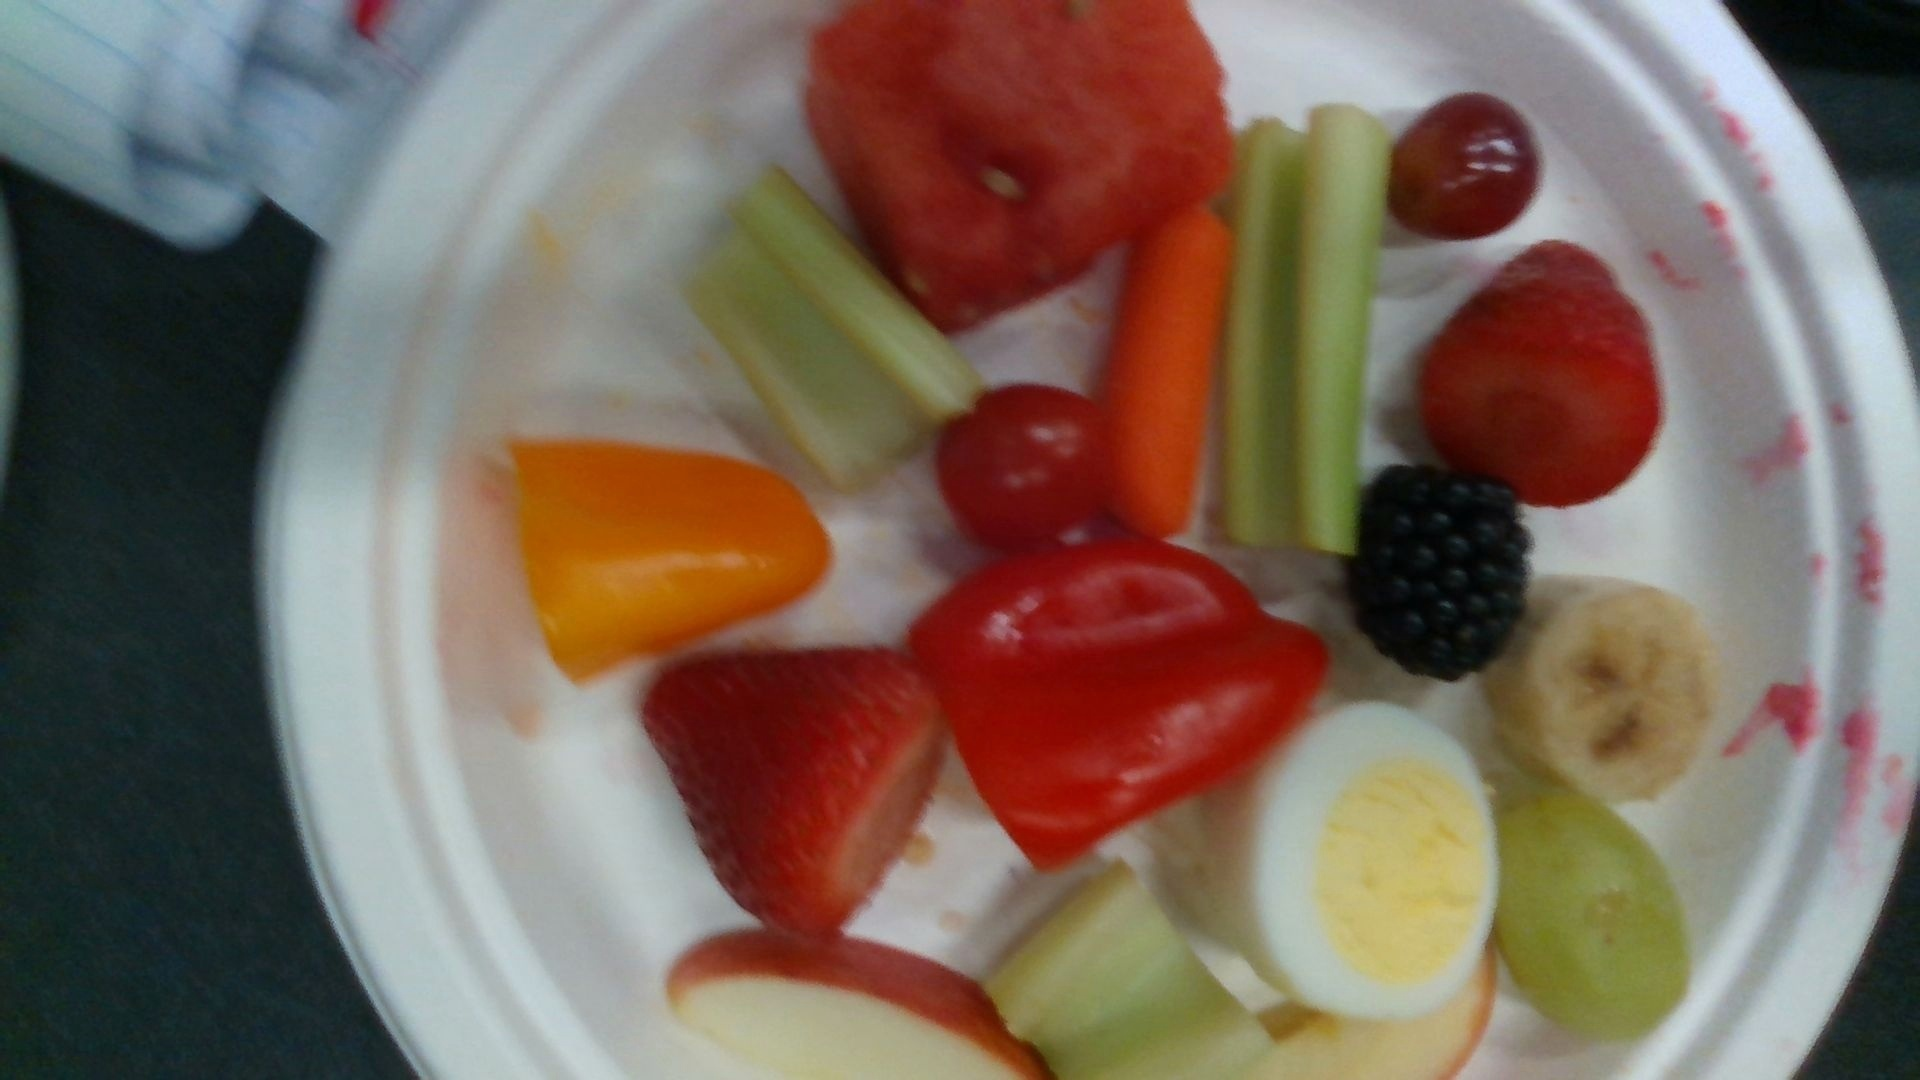apple: (667, 931, 1044, 1080)
banana: (1497, 580, 1712, 798)
bell_pepper: (913, 543, 1331, 866), (509, 440, 829, 683)
blackberry: (1350, 469, 1527, 676)
carrot: (1106, 204, 1229, 538)
celery: (688, 167, 975, 488), (1226, 105, 1385, 551), (984, 862, 1292, 1080)
cherry_tomato: (939, 386, 1109, 543)
egg: (1226, 703, 1499, 1015)
grape_green: (1497, 800, 1691, 1033)
melon: (804, 1, 1234, 334)
strawberry: (644, 650, 949, 930), (1420, 243, 1660, 505)
